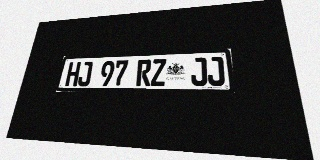7: (113, 60, 129, 86)
9: (99, 61, 115, 86)
H: (65, 62, 81, 86)
J: (207, 57, 225, 86), (191, 57, 207, 86), (77, 61, 93, 86)
R: (136, 59, 152, 86)
Z: (151, 59, 166, 86)
